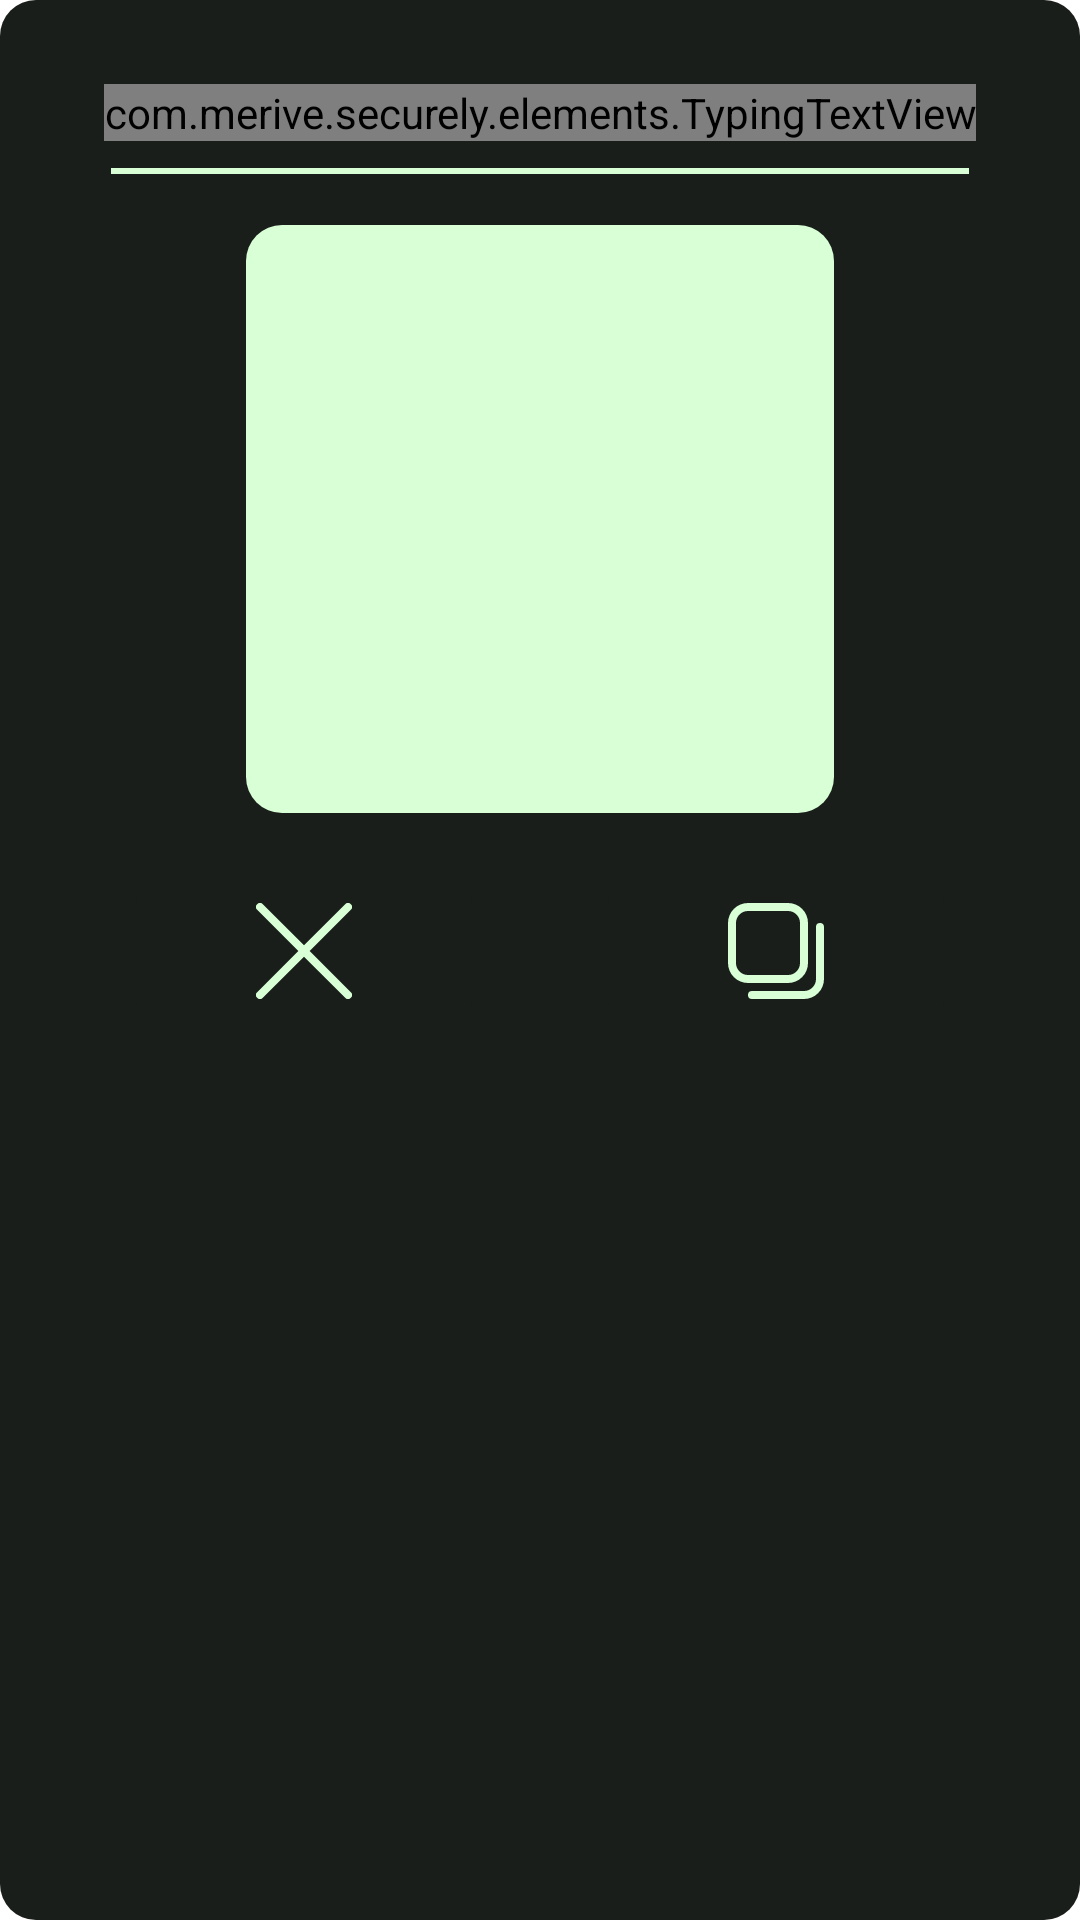

Where icons sit on this 1080 x 1920 app screen, as (x1, y1, x2, y2):
cancel: (256, 903, 352, 999)
